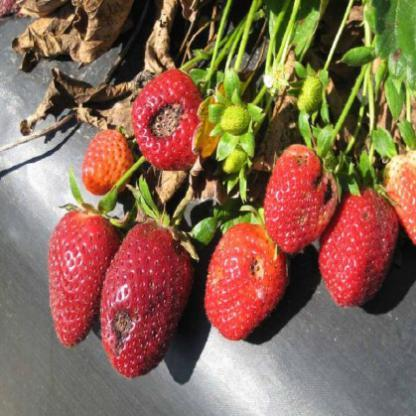Strawberry_Anthracnose_Fruit_Rot: (107, 289, 164, 358), (292, 150, 334, 208), (141, 97, 187, 144), (245, 250, 268, 280)
